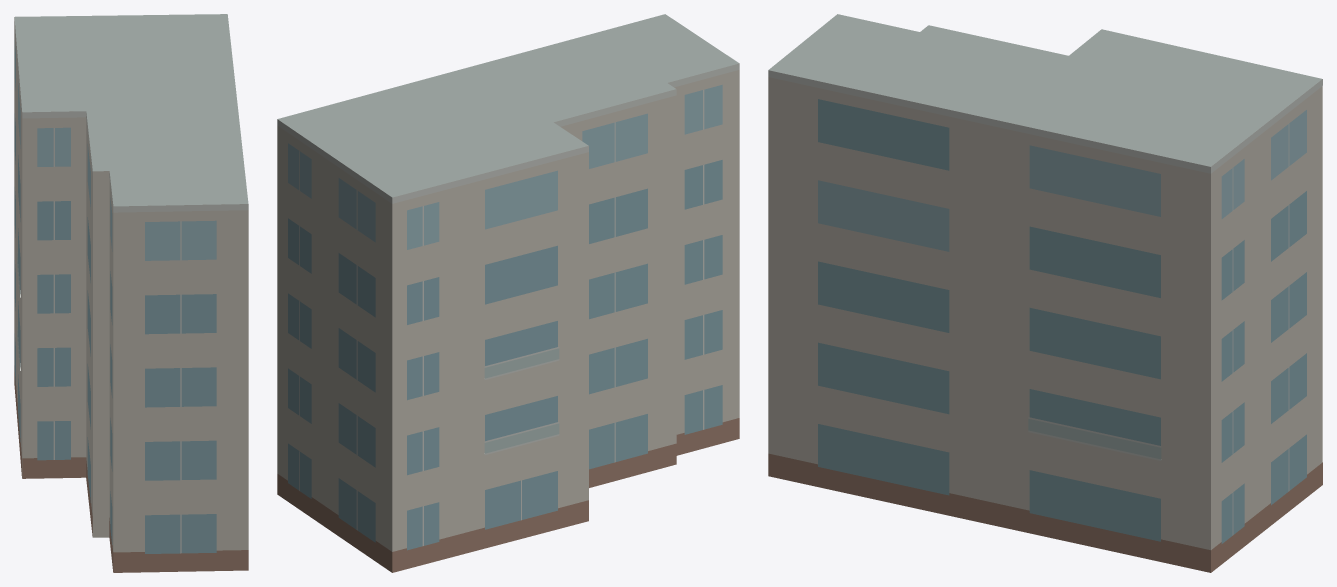
Rendered from survey-upis-32609835.glb.
3 views of the same model, side by side, from view 1: azimuth 30°, elevation 25°; view 2: azimuth 150°, elevation 25°; view 3: azimuth 270°, elevation 25° (orthographic). The views are drawn at different scales.
Parts seen in each view (by area): view 1: survey-upis-32609835.tmp; view 2: survey-upis-32609835.tmp; view 3: survey-upis-32609835.tmp.
Part boxes in pixels (x1,y1,x2,y2): survey-upis-32609835.tmp: (14, 14, 248, 572); survey-upis-32609835.tmp: (277, 14, 739, 572); survey-upis-32609835.tmp: (768, 14, 1322, 572).
Bounding box in the file's own units: 11.72 × 14.5 × 17.96.
